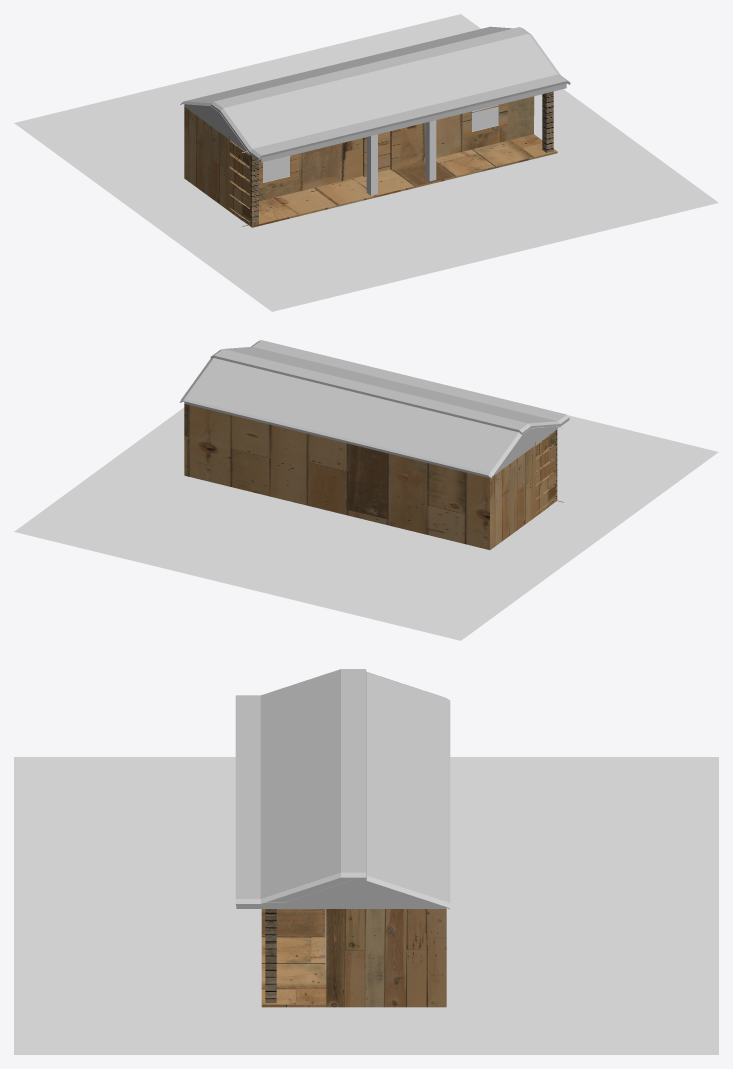
File: casaBusch.fbx
The picture shows the model from 3 angles, top to bottom: view 1: azimuth 30°, elevation 25°; view 2: azimuth 150°, elevation 25°; view 3: azimuth 270°, elevation 25°; orthographic projection. The views are drawn at different scales.
Parts seen in each view (by area): view 1: Plane, Cube; view 2: Plane, Cube; view 3: Plane, Cube.
Boxes of the visible parts, left/top/right/bottom form: Plane: left=14, top=14, right=718, bottom=311; Cube: left=180, top=26, right=570, bottom=227; Plane: left=14, top=407, right=718, bottom=640; Cube: left=179, top=340, right=569, bottom=549; Plane: left=14, top=757, right=718, bottom=1054; Cube: left=235, top=669, right=450, bottom=1007.
Size of the model in its own units: 5054 by 1078 by 5054.
